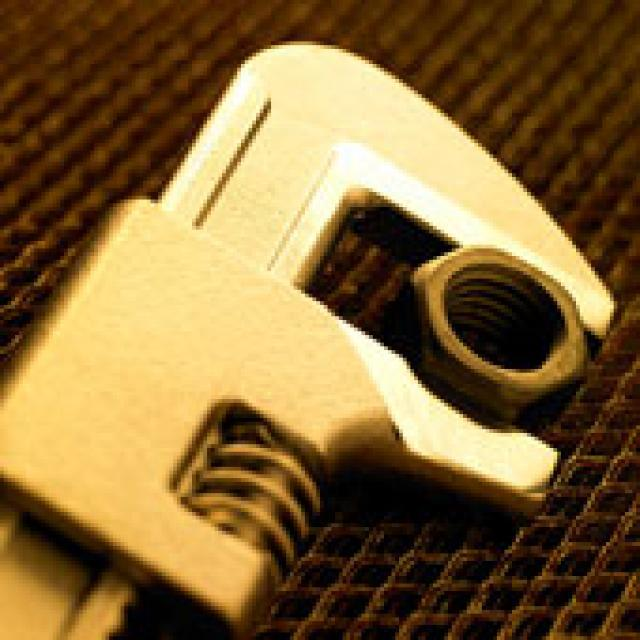wrench: (0, 30, 623, 640)
